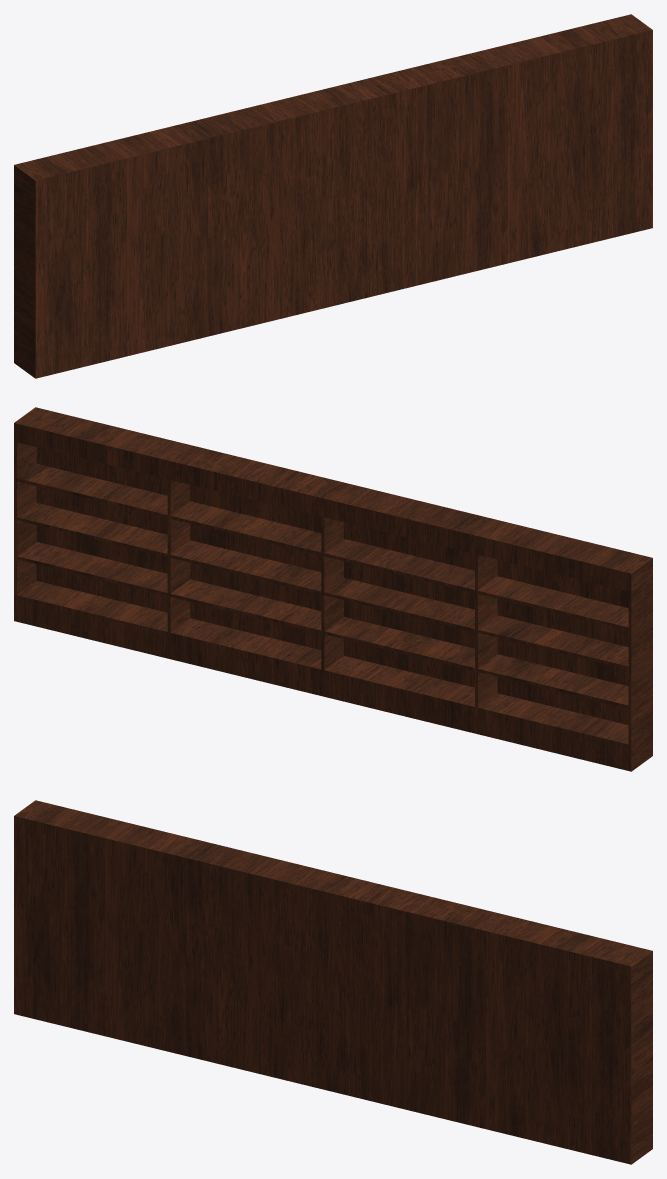
The model's file is shelf.glb.
3 views of the same model, one above another, from view 1: azimuth 30°, elevation 25°; view 2: azimuth 150°, elevation 25°; view 3: azimuth 330°, elevation 25° (orthographic).
Visible parts, largest first — view 1: Shelf.001; view 2: Shelf.001; view 3: Shelf.001.
Part boxes in pixels (x1=…): Shelf.001: x1=14, y1=14, x2=652, y2=378; Shelf.001: x1=14, y1=407, x2=652, y2=771; Shelf.001: x1=14, y1=800, x2=652, y2=1164.
Bounding box in the file's own units: 8.28 × 2.54 × 0.5.
1 material, 1 textured.
